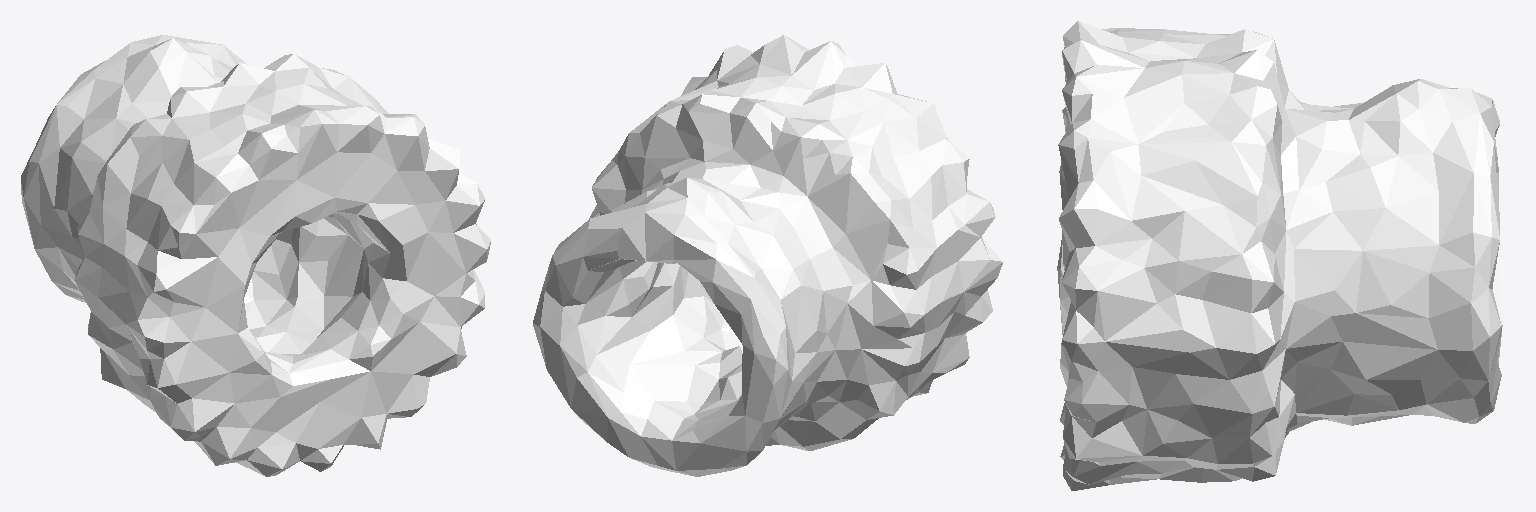
URDF robot description (atb1_gear-small):
<?xml version="0.0" ?>
<robot name="atb1_gear-small">
  <link name="baseLink">
    <contact>
      <friction_anchor/>
      <lateral_friction value="0.8"/>
      <spinning_friction value="0.001"/>
      <rolling_friction value="0.001"/>
      <contact_cfm value="0.0"/>
      <contact_erp value="0.2"/>
    </contact>
    <inertial>
       <origin rpy="0 0 0" xyz="0 0 0"/>
       <mass value="0.01"/>
       <inertia ixx="1e-3" ixy="0" ixz="0" iyy="1e-3" iyz="0" izz="1e-3"/>
    </inertial>
    <visual>
      <origin rpy="0 0 0" xyz="0 0 0"/>
      <geometry>
        <mesh filename="obj/fused_model.obj" scale="1 1 1"/>
      </geometry>
      <material name="white">
        <color rgba="1. 1. 1. 1."/>
      </material>
    </visual>
    <collision>
      <origin rpy="0 0 0" xyz="0 0 0"/>
      <geometry>
        <mesh filename="obj/fused_model.obj" scale="1 1 1"/>
      </geometry>
    </collision>
  </link>
</robot>

--- Facts derived from the render (not from the file) ---
3 views of the same robot in one strip: view 1: azimuth 30°, elevation 25°; view 2: azimuth 150°, elevation 25°; view 3: azimuth 270°, elevation 25° (orthographic).
Robot: atb1_gear-small — 1 links, 0 joints (none); root link baseLink; default pose: every joint at zero.
Visible links, largest first — view 1: baseLink; view 2: baseLink; view 3: baseLink.
Boxes of the visible links, <box> form: baseLink: <box>21,35,490,476</box>; baseLink: <box>533,35,1002,476</box>; baseLink: <box>1057,21,1502,490</box>.
Size in the robot's own frame: 0.0216 by 0.0203 by 0.0215 metres.
Meshes: 1 distinct files referenced, 1 mesh visuals loaded (1 OBJ).
